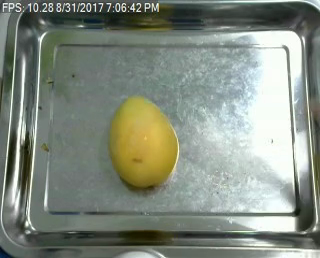Mango: (108, 95, 178, 189)
